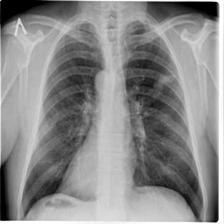tuberculosis: (17, 13, 210, 223)
